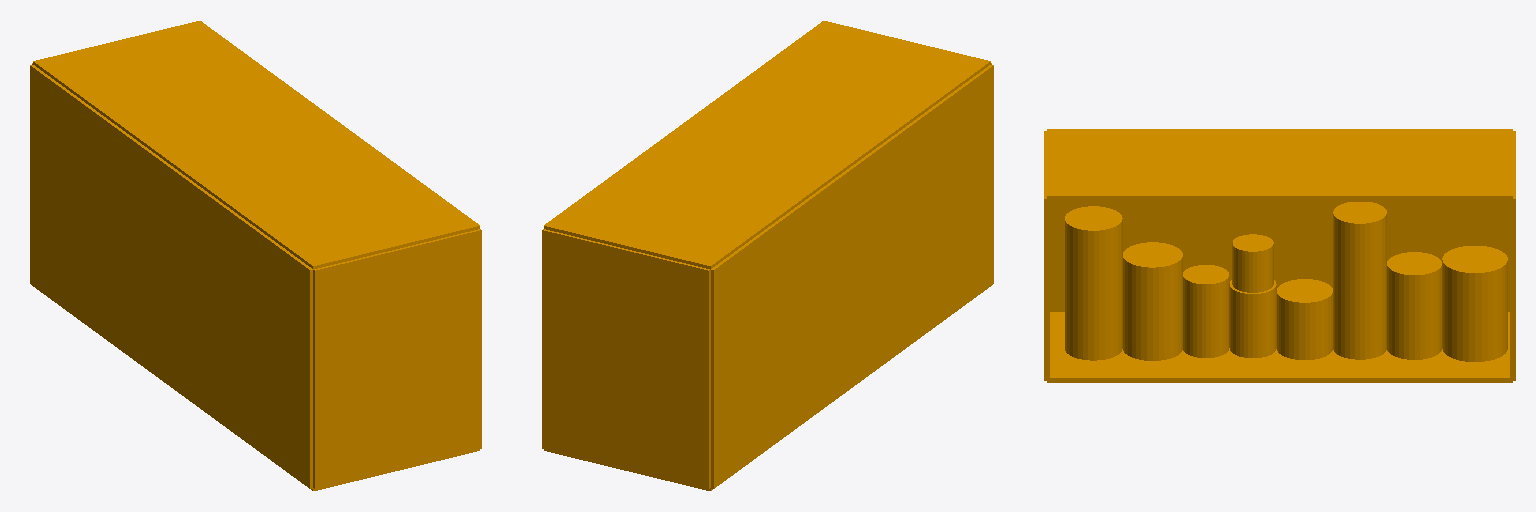
The robot description file, URDF, robot "syn_can_cabinet_packed_nonuniform_2":
<?xml version="1.0" ?>
<robot name="syn_can_cabinet_packed_nonuniform_2">
    <link concave="yes" name="base_link">
        <inertial>
            <origin rpy="0 0 0" xyz="0 0 0"/>
            <mass value="0.0"/>
            <inertia ixx="1e-08" ixy="0" ixz="0" iyy="1e-08" iyz="0" izz="1e-08"/>
        </inertial>
        <visual>
            <origin xyz="0 0 0" rpy="0 0 0" />
            <geometry>
                <mesh filename="syn_can_cabinet_packed_nonuniform_2.obj" scale="1.000000 1.000000 1.000000"/>
            </geometry>         
        </visual>

        <collision concave="yes">
            <origin xyz="0 0 0" rpy="0 0 0"/>
            <geometry>
                <mesh filename="syn_can_cabinet_packed_nonuniform_2.obj" scale="1.000000 1.000000 1.000000"/>
            </geometry>
        </collision>
    </link>
</robot>
    

--- What the picture shows (computed from the rendered views, not written in the file) ---
The picture shows the robot from 3 angles, left to right: view 1: azimuth 30°, elevation 25°; view 2: azimuth 150°, elevation 25°; view 3: azimuth 270°, elevation 25°; orthographic projection.
Model syn_can_cabinet_packed_nonuniform_2 with 1 links and 0 joints (none), rooted at base_link, posed every joint at zero.
Visible links, largest first — view 1: base_link; view 2: base_link; view 3: base_link.
Boxes of the visible links, x1=… form: base_link: x1=30, y1=21, x2=481, y2=490; base_link: x1=542, y1=21, x2=993, y2=490; base_link: x1=1044, y1=129, x2=1515, y2=382.
Bounding box of the posed robot: 0.1526 × 0.4403 × 0.193 m (x, y, z).
Meshes: 1 distinct files referenced, 1 mesh visuals loaded (1 OBJ).
